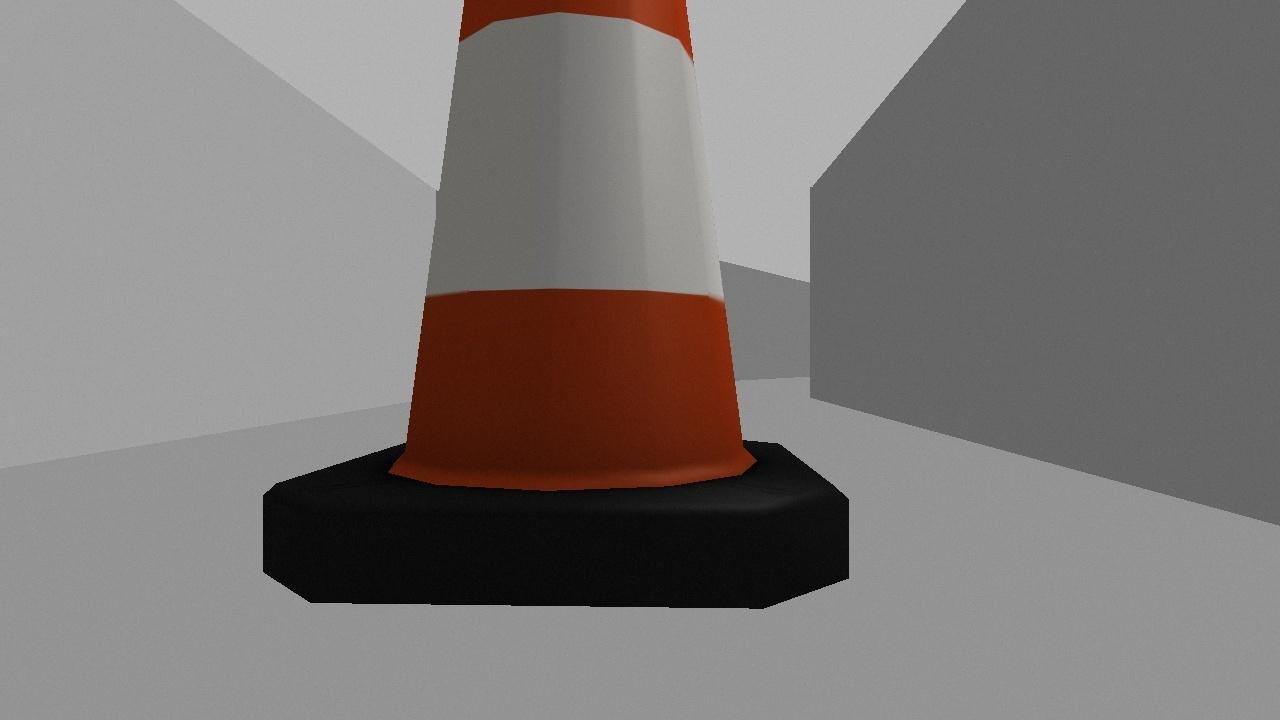cone_barrel: (225, 0, 883, 638)
